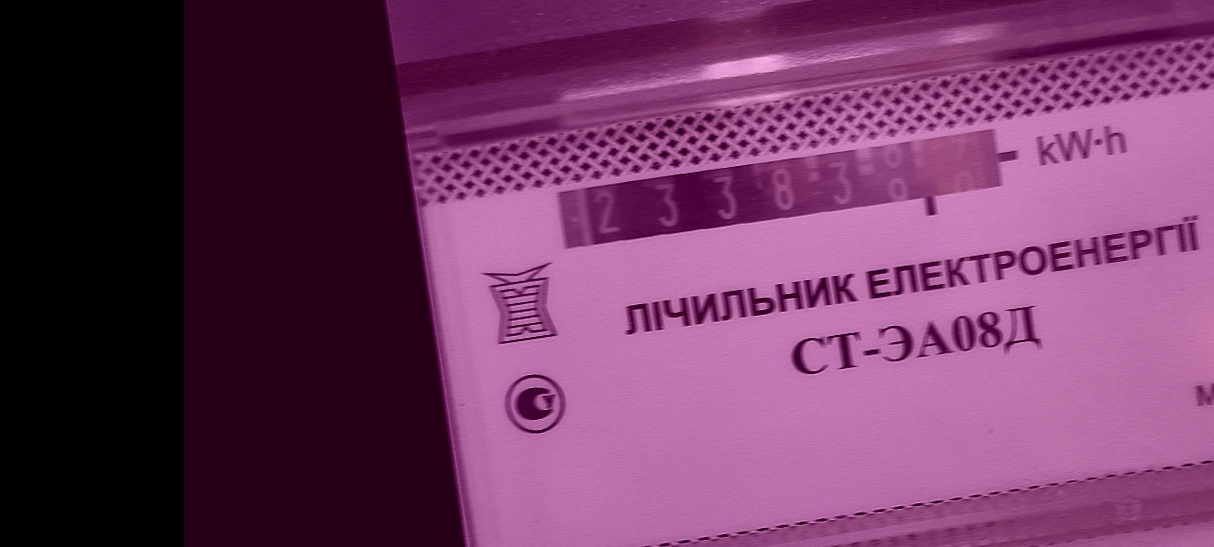0: (950, 164, 979, 192)
2: (590, 183, 625, 235)
3: (651, 176, 685, 229), (712, 169, 743, 222), (826, 154, 858, 205)
8: (768, 162, 799, 211), (879, 139, 910, 169)
9: (883, 170, 914, 202), (945, 129, 973, 161)
screen: (544, 111, 1025, 271)
